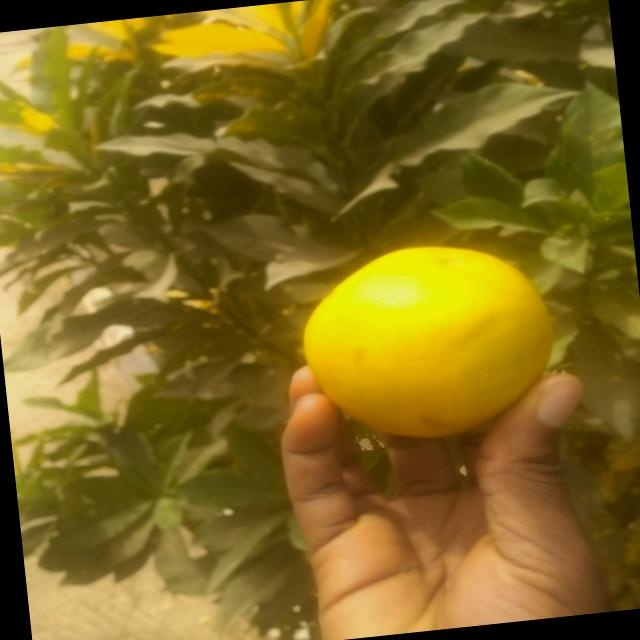agrume: (282, 224, 563, 448)
